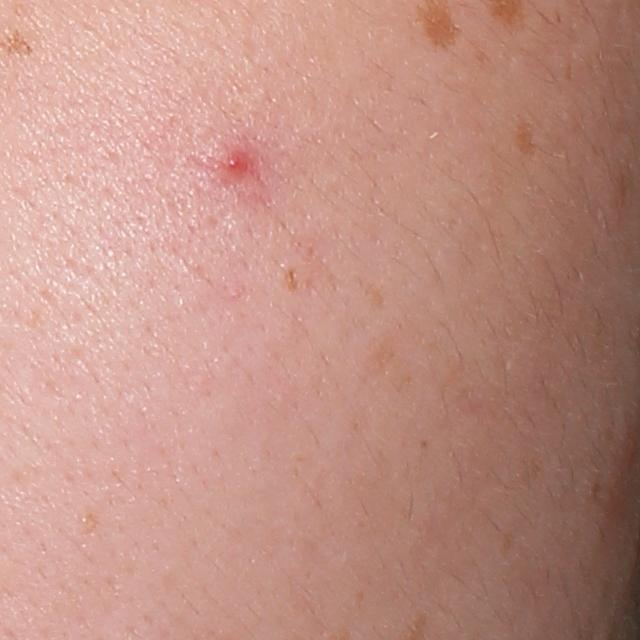melasma: (512, 114, 545, 166)
papule: (215, 142, 256, 183)
